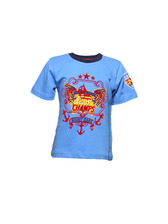clothoes: (26, 51, 148, 166)
